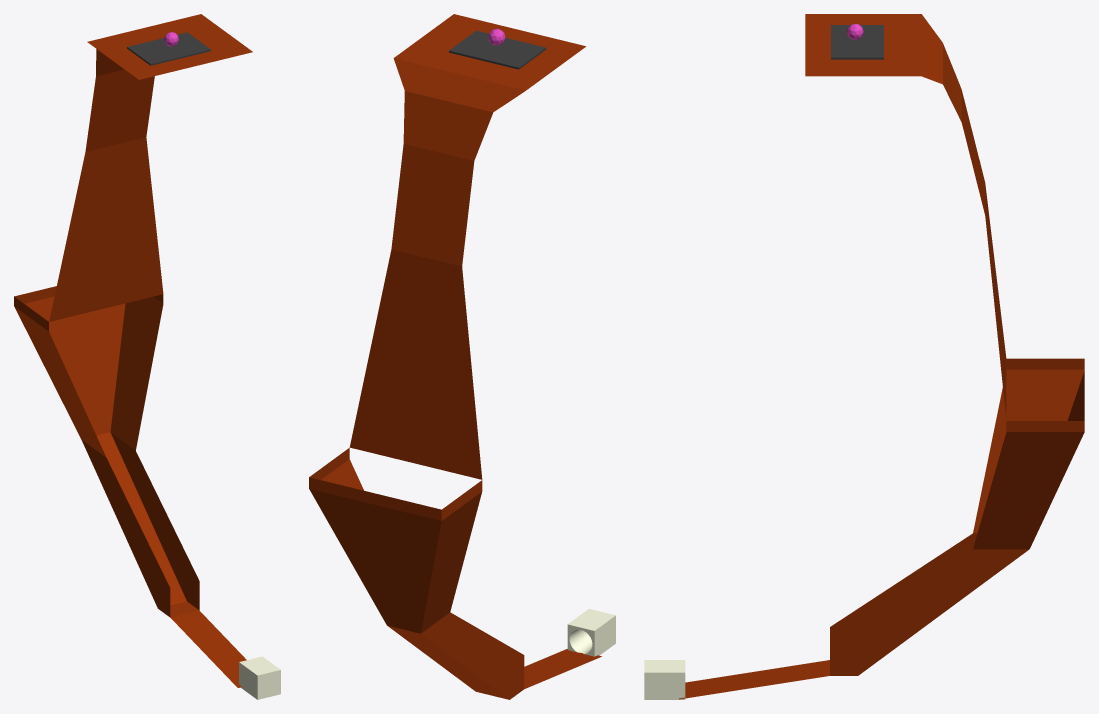
File: boilerplate_level_18.glb
3 renders of one model, left to right at view 1: azimuth 30°, elevation 25°; view 2: azimuth 150°, elevation 25°; view 3: azimuth 270°, elevation 25°, orthographic. The views are drawn at different scales.
Parts seen in each view (by area): view 1: Plane, Start, Cup; view 2: Plane, Start, Cup; view 3: Plane, Cup, Start.
Part boxes in pixels (x1=…): Plane: x1=14, y1=14, x2=252, y2=687; Start: x1=127, y1=32, x2=210, y2=65; Cup: x1=239, y1=656, x2=280, y2=699; Plane: x1=309, y1=14, x2=601, y2=699; Start: x1=449, y1=30, x2=546, y2=69; Cup: x1=567, y1=609, x2=615, y2=656; Plane: x1=679, y1=14, x2=1084, y2=699; Cup: x1=644, y1=660, x2=685, y2=699; Start: x1=831, y1=25, x2=883, y2=59.
Size of the model in its own units: 14.95 by 74.54 by 44.58.
